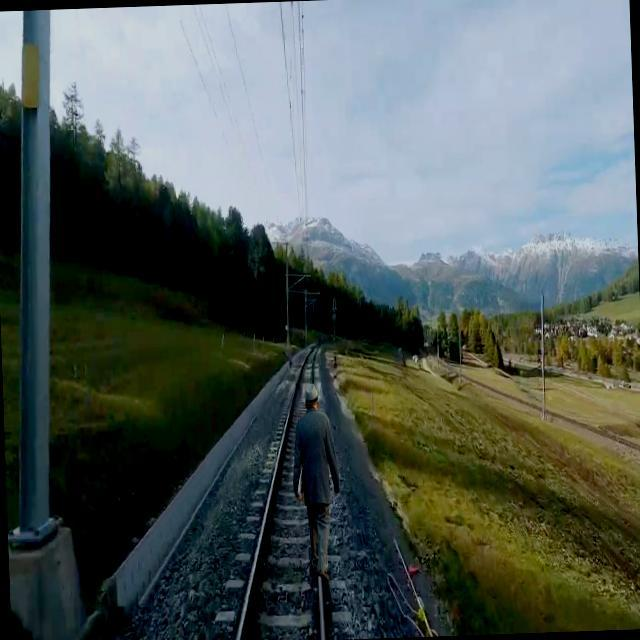danger: (283, 379, 355, 587)
rail: (182, 340, 372, 640)
